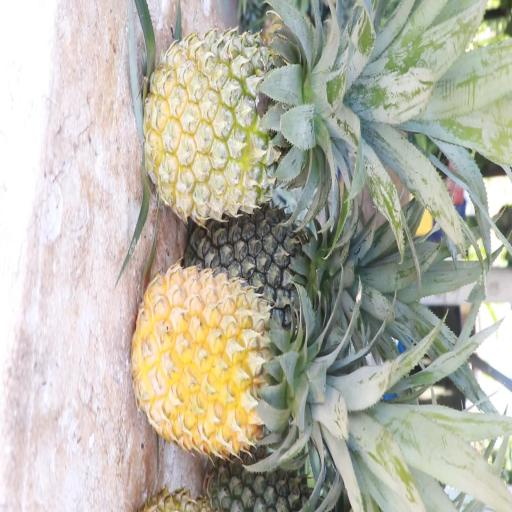------------------------------: (149, 26, 334, 218)
Pineapple - v8 v1: (139, 270, 307, 460)
